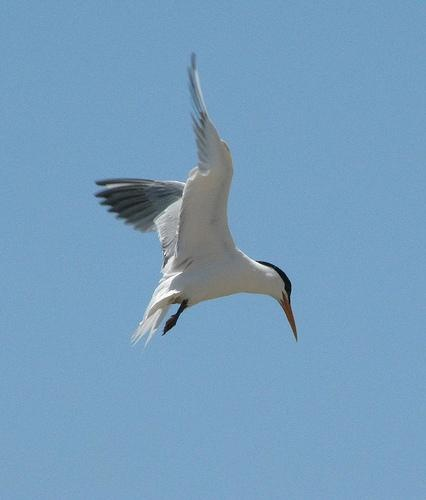bird: (90, 45, 310, 345)
